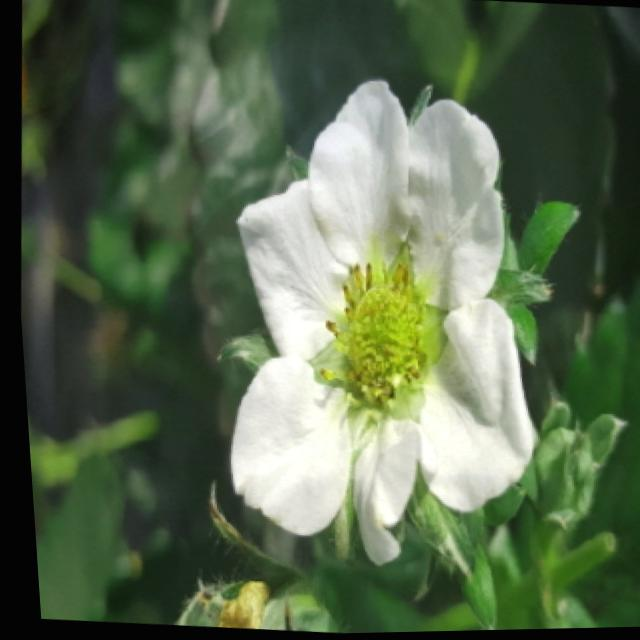Blossom Blight: (297, 235, 449, 434)
